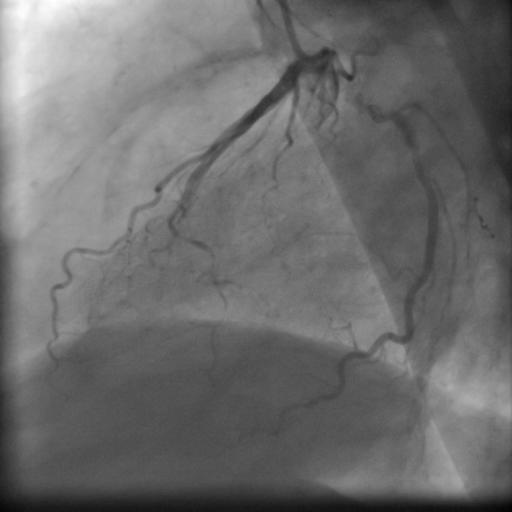Stenosis: (370, 98, 397, 136)
